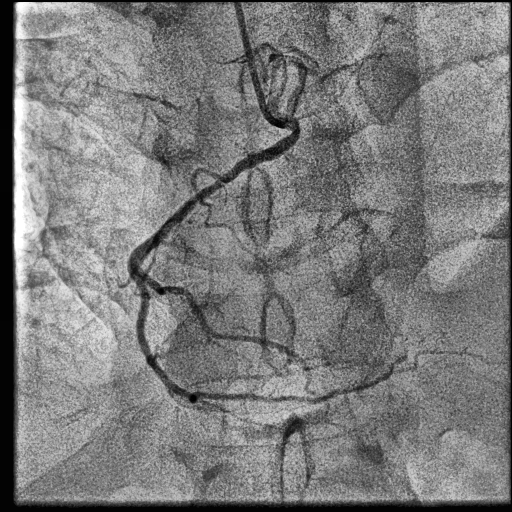rca: (128, 134, 393, 405)
